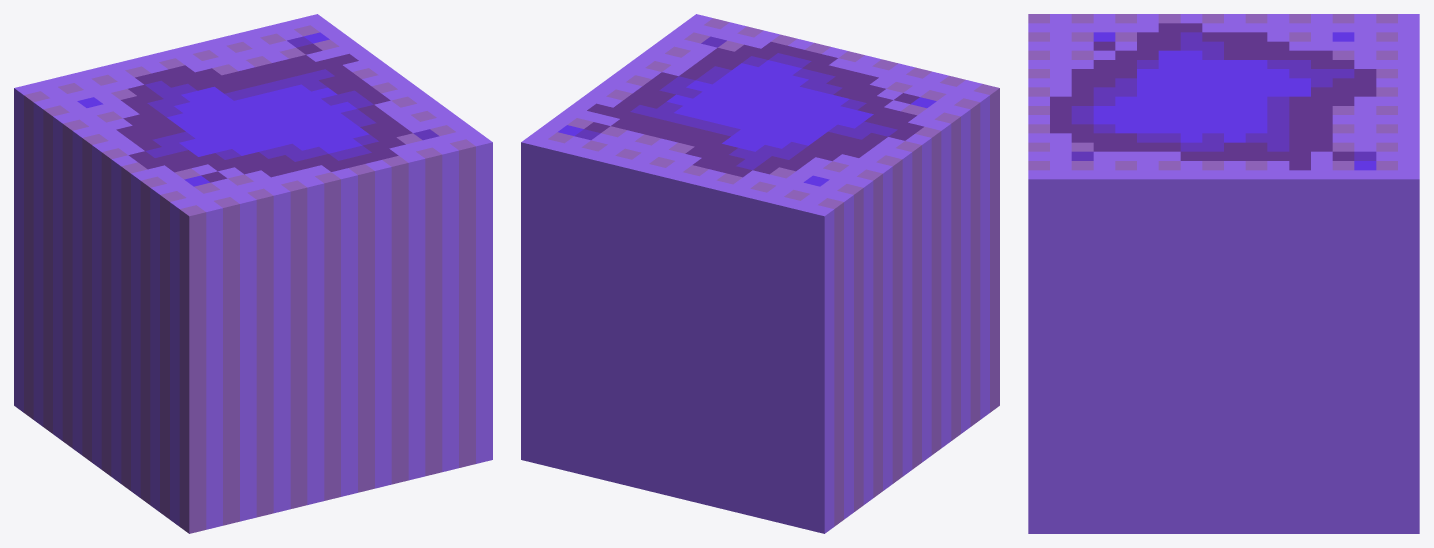
File: floor_agua.obj
3 views of the same model, side by side, from view 1: azimuth 30°, elevation 25°; view 2: azimuth 150°, elevation 25°; view 3: azimuth 270°, elevation 25° (orthographic). The views are drawn at different scales.
Bounding box in the file's own units: 1.8 × 1.8 × 1.8.
1 material, 1 textured.
